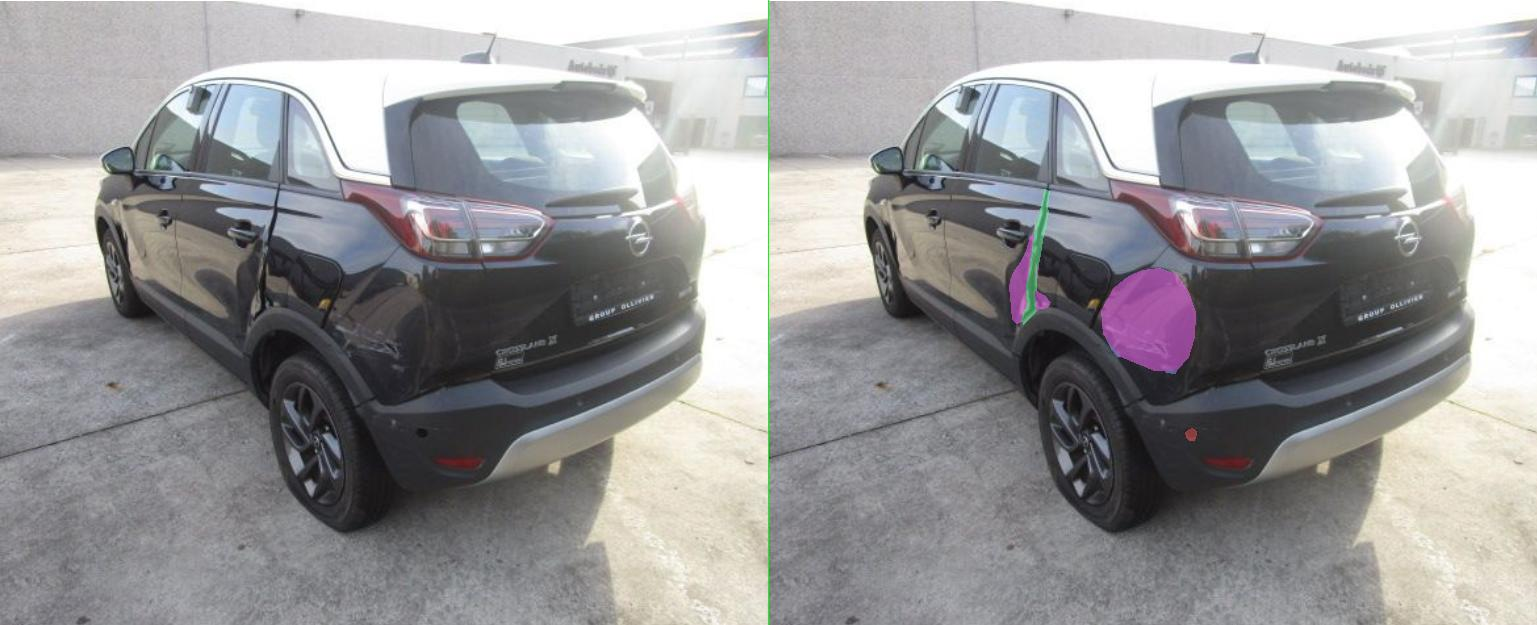Broken part: (506, 189, 560, 324)
Dent: (664, 268, 853, 370), (480, 235, 540, 323), (532, 291, 562, 309)
Missing part: (833, 428, 855, 440)
Scratch: (670, 321, 809, 362), (779, 364, 817, 373)
